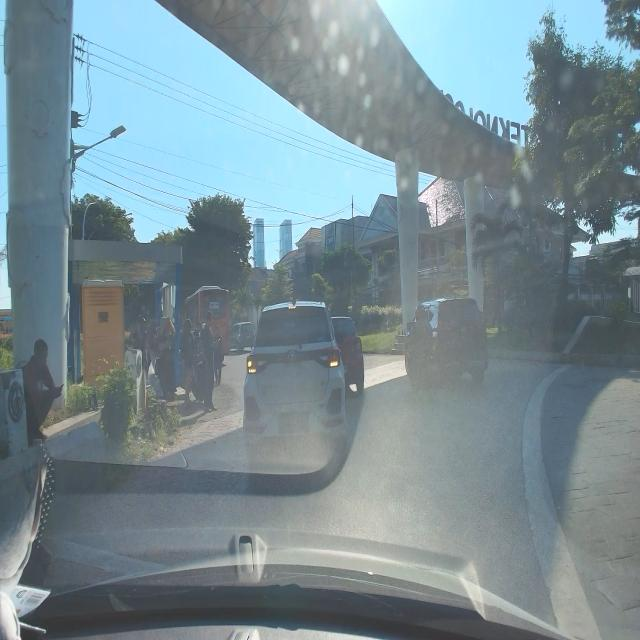car: (242, 298, 348, 466)
